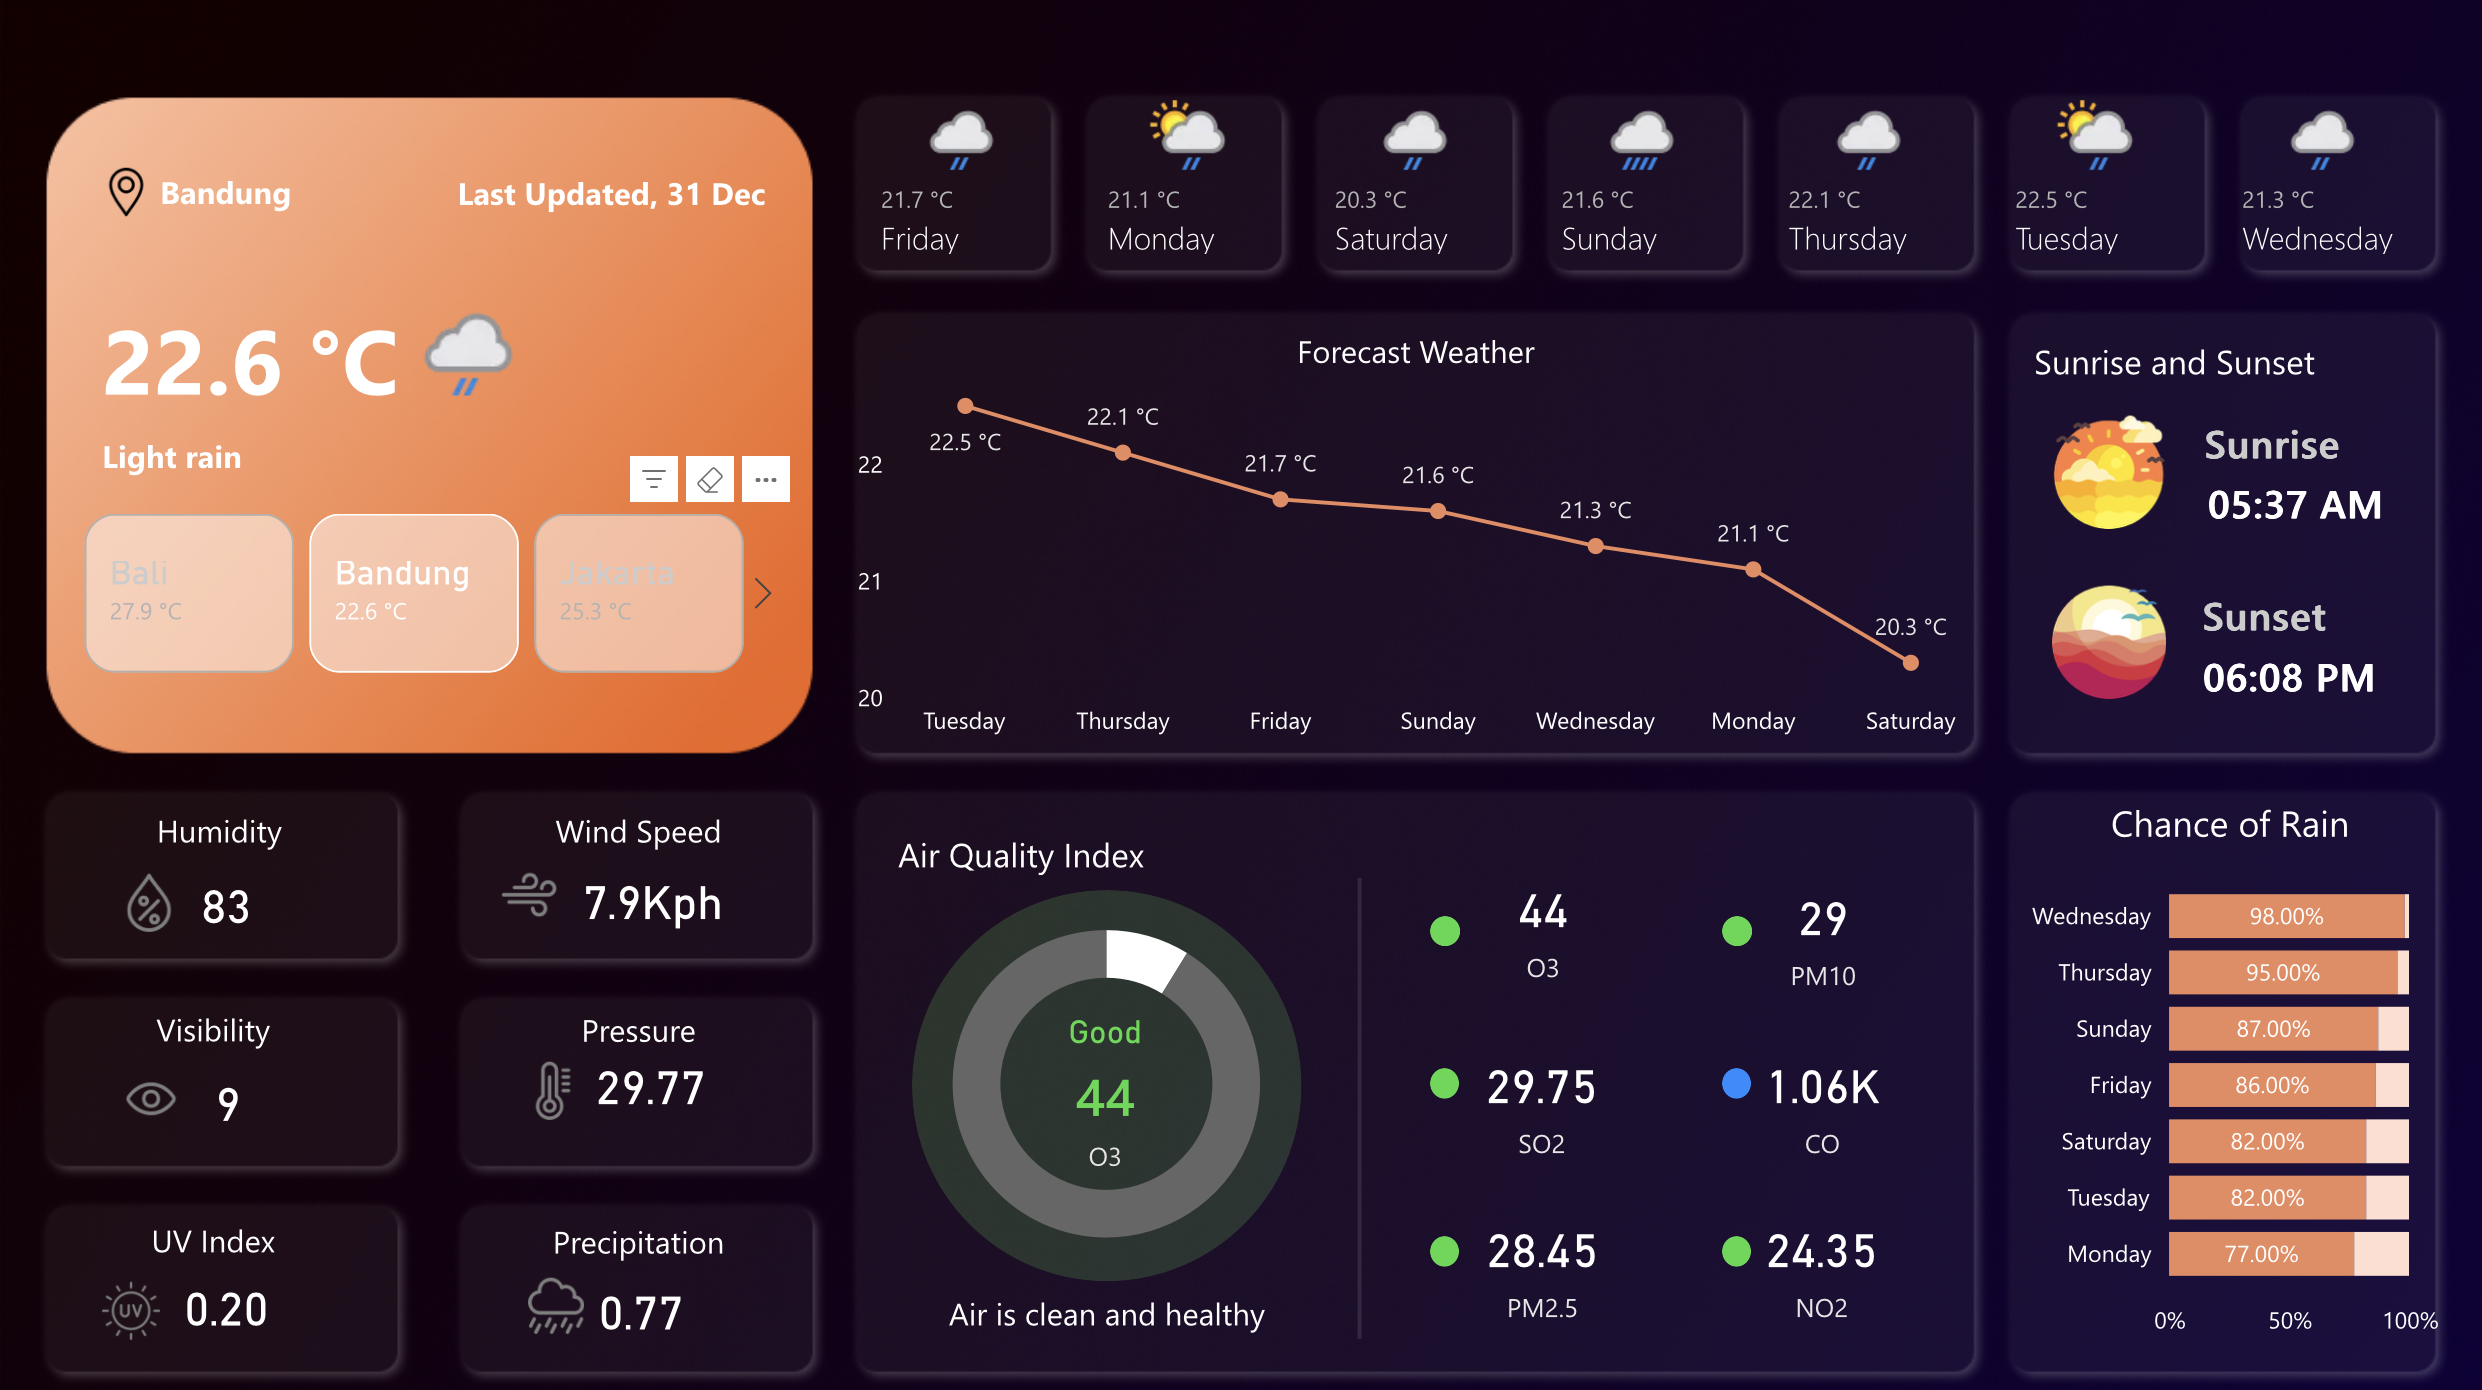

The dashboard page shown, as its layout file describes it:
{"tool":"powerbi","page":{"name":"Page 1","canvas":[1280,720],"ordinal":0},"visuals":[{"type":"advancedSlicerVisual","fields":{"Values":["Location.location.name"],"Label":["_Measures.Curr_temp_C"]},"box":[18.6,261.4,390,92.9],"z":0},{"type":"shape","box":[52.5,149.3,373.3,71.7],"z":1000},{"type":"shape","box":[52.5,209.3,383.3,53.3],"z":2000},{"type":"shape","box":[82.5,73.8,155,52.5],"z":3000},{"type":"shape","box":[207.5,73.8,187.5,53.8],"z":4000},{"type":"shape","box":[18.2,410.9,189.1,37.3],"z":5000},{"type":"shape","box":[18.2,511.8,182.7,40],"z":6000},{"type":"shape","box":[18.2,620,182.7,40.9],"z":7000},{"type":"shape","box":[239.1,411.8,180,34.5],"z":8000},{"type":"shape","box":[239.1,519.1,180,26.4],"z":9000},{"type":"shape","box":[239.1,623.6,180,33.6],"z":10000},{"type":"card","fields":{"Values":["Sum(Current.current.humidity)"]},"box":[52.8,442.2,128.3,50.6],"z":11000},{"type":"card","fields":{"Values":["_Measures.Wind_Speed"]},"box":[270,442.7,132.7,46.4],"z":12000},{"type":"card","fields":{"Values":["Sum(Current.current.vis_km)"]},"box":[52.8,542.2,130,54.4],"z":13000},{"type":"card","fields":{"Values":["Sum(Current.current.uv)"]},"box":[52.8,654.4,128.3,42.8],"z":14000},{"type":"card","fields":{"Values":["Sum(Current.current.pressure_in)"]},"box":[264.6,538.2,142.7,45.5],"z":15000},{"type":"card","fields":{"Values":["Sum(Current.current.precip_mm)"]},"box":[258.8,657.5,143.1,40.6],"z":16000},{"type":"advancedSlicerVisual","fields":{"Values":["Forecast_Day.Day_Name"]},"box":[436.7,40,826.7,110],"z":17000},{"type":"lineChart","title":"Forecast Weather","fields":{"Category":["Forecast_Day.Day_Name"],"Y":["Sum(Forecast_Day.forecast.forecastday.day.avgtemp_c)"]},"box":[437.1,171.4,585.7,220],"z":18000},{"type":"shape","box":[1048.6,167.1,191.4,38.6],"z":19000},{"type":"shape","box":[1131.1,223.8,104.6,72.3],"z":20000},{"type":"shape","box":[1129.2,313.9,102.3,70.8],"z":21000},{"type":"shape","box":[1135.4,281.5,112.3,71.5],"z":22000},{"type":"shape","box":[1136.5,193.1,113.1,71.5],"z":23000},{"type":"hundredPercentStackedBarChart","title":"Chance of Rain","fields":{"Y":["Sum(Forecast_Day.forecast.forecastday.day.daily_chance_of_rain)","Current.Left_value_Rain"],"Category":["Forecast_Day.Day_Name"]},"box":[1037.5,412.5,225,287.5],"z":24000},{"type":"shape","box":[463,422,191,38],"z":25000},{"type":"card","fields":{"Values":["Sum(Current.current.air_quality.pm10)"]},"box":[906.3,445.4,67.3,74.5],"z":26000},{"type":"card","fields":{"Values":["Sum(Current.current.air_quality.co)"]},"box":[896.3,531.8,87.3,74.5],"z":27000},{"type":"card","fields":{"Values":["Sum(Current.current.air_quality.no2)"]},"box":[896.3,617.3,86.4,74.5],"z":28000},{"type":"card","fields":{"Values":["Sum(Current.current.air_quality.o3)"]},"box":[761.8,441.8,67.3,74.5],"z":29000},{"type":"card","fields":{"Values":["Sum(Current.current.air_quality.so2)"]},"box":[756.3,531.8,78.2,74.5],"z":30000},{"type":"card","fields":{"Values":["Sum(Current.current.air_quality.pm2_5)"]},"box":[759,617.3,72.7,74.5],"z":31000},{"type":"shape","box":[888.1,473.1,15.6,15.6],"z":32000},{"type":"shape","box":[888.2,551.8,15,15.9],"z":33000},{"type":"shape","box":[888.2,638.2,15,15.9],"z":34000},{"type":"shape","box":[470,460,200.9,201.8],"z":35000},{"type":"shape","box":[737,473.7,15.6,15.6],"z":36000},{"type":"shape","box":[737.1,552.4,15,15.9],"z":37000},{"type":"shape","box":[737.1,638.7,15,15.9],"z":38000},{"type":"shape","box":[665.5,453.6,71.8,238.2],"z":39000},{"type":"card","fields":{"Values":["Sum(Current.current.air_quality.o3)"]},"box":[524.5,526.4,90,85.5],"z":40000},{"type":"donutChart","fields":{"Y":["Sum(Current.current.air_quality.o3)","_Measures.Left_value_O3"]},"box":[445.4,456.4,250,208.2],"z":41000},{"type":"shape","box":[447.3,659.1,246.4,38.2],"z":42000},{"type":"image","box":[271.8,654.5,29.1,39.1],"z":43000},{"type":"image","box":[270,543.6,30,40],"z":44000},{"type":"image","box":[270,442.7,30,40],"z":45000},{"type":"image","box":[61.8,446.4,30,40],"z":46000},{"type":"image","box":[62.7,548.2,30,40],"z":47000},{"type":"image","box":[52.7,657.3,30,40],"z":48000},{"type":"image","box":[52.5,83.1,25,32.5],"z":49000},{"type":"cardVisual","fields":{"Data":["Min(Current.current.condition.icon)"]},"box":[180.6,131.8,113.5,92.9],"z":49001}]}

Visuals, with their boxes in screenshot pixels (x1, y1, x2, y2), scaled from the page's 1280x720 canvas onto the 2482x1390 screenshot:
advancedSlicerVisual - Location.location.name x _Measures.Curr_temp_C: (36, 505, 792, 684)
shape: (102, 288, 826, 427)
shape: (102, 404, 845, 507)
shape: (160, 142, 461, 244)
shape: (402, 142, 766, 246)
shape: (35, 793, 402, 865)
shape: (35, 988, 390, 1065)
shape: (35, 1197, 390, 1276)
shape: (464, 795, 813, 862)
shape: (464, 1002, 813, 1053)
shape: (464, 1204, 813, 1269)
card - Sum(Current.current.humidity): (102, 854, 351, 951)
card - _Measures.Wind_Speed: (524, 855, 781, 944)
card - Sum(Current.current.vis_km): (102, 1047, 354, 1152)
card - Sum(Current.current.uv): (102, 1263, 351, 1346)
card - Sum(Current.current.pressure_in): (513, 1039, 790, 1127)
card - Sum(Current.current.precip_mm): (502, 1269, 779, 1348)
advancedSlicerVisual - Forecast_Day.Day_Name: (847, 77, 2450, 290)
"Forecast Weather" lineChart: (848, 331, 1983, 756)
shape: (2033, 323, 2404, 397)
shape: (2193, 432, 2396, 572)
shape: (2190, 606, 2388, 743)
shape: (2202, 543, 2419, 681)
shape: (2204, 373, 2423, 511)
"Chance of Rain" hundredPercentStackedBarChart: (2012, 796, 2448, 1351)
shape: (898, 815, 1268, 888)
card - Sum(Current.current.air_quality.pm10): (1757, 860, 1888, 1004)
card - Sum(Current.current.air_quality.co): (1738, 1027, 1907, 1170)
card - Sum(Current.current.air_quality.no2): (1738, 1192, 1906, 1336)
card - Sum(Current.current.air_quality.o3): (1477, 853, 1608, 997)
card - Sum(Current.current.air_quality.so2): (1467, 1027, 1618, 1170)
card - Sum(Current.current.air_quality.pm2_5): (1472, 1192, 1613, 1336)
shape: (1722, 913, 1752, 943)
shape: (1722, 1065, 1751, 1096)
shape: (1722, 1232, 1751, 1263)
shape: (911, 888, 1301, 1278)
shape: (1429, 915, 1459, 945)
shape: (1429, 1066, 1458, 1097)
shape: (1429, 1233, 1458, 1264)
shape: (1290, 876, 1430, 1336)
card - Sum(Current.current.air_quality.o3): (1017, 1016, 1192, 1181)
donutChart - Sum(Current.current.air_quality.o3) x _Measures.Left_value_O3: (864, 881, 1348, 1283)
shape: (867, 1272, 1345, 1346)
image: (527, 1264, 583, 1339)
image: (524, 1049, 582, 1127)
image: (524, 855, 582, 932)
image: (120, 862, 178, 939)
image: (122, 1058, 180, 1136)
image: (102, 1269, 160, 1346)
image: (102, 160, 150, 223)
cardVisual - Min(Current.current.condition.icon): (350, 254, 570, 434)
